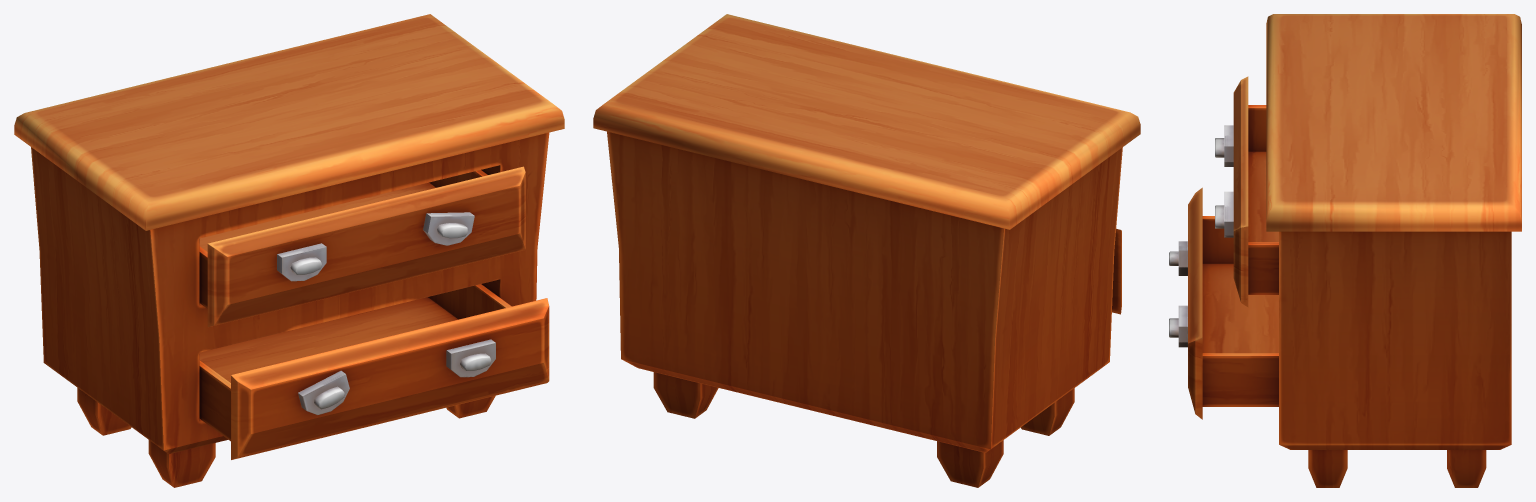
The model's file is Bedside02.FBX.
3 views of the same model, side by side, from view 1: azimuth 30°, elevation 25°; view 2: azimuth 150°, elevation 25°; view 3: azimuth 270°, elevation 25° (orthographic). The views are drawn at different scales.
Parts seen in each view (by area): view 1: Bedside02; view 2: Bedside02; view 3: Bedside02.
Part boxes in pixels (box(x1,y1,x2,y2)): Bedside02: box(14, 14, 564, 487); Bedside02: box(593, 14, 1140, 487); Bedside02: box(1169, 14, 1521, 487).
Size of what is drawn, in the model's own units: 1.07 by 0.7665 by 0.8038.
